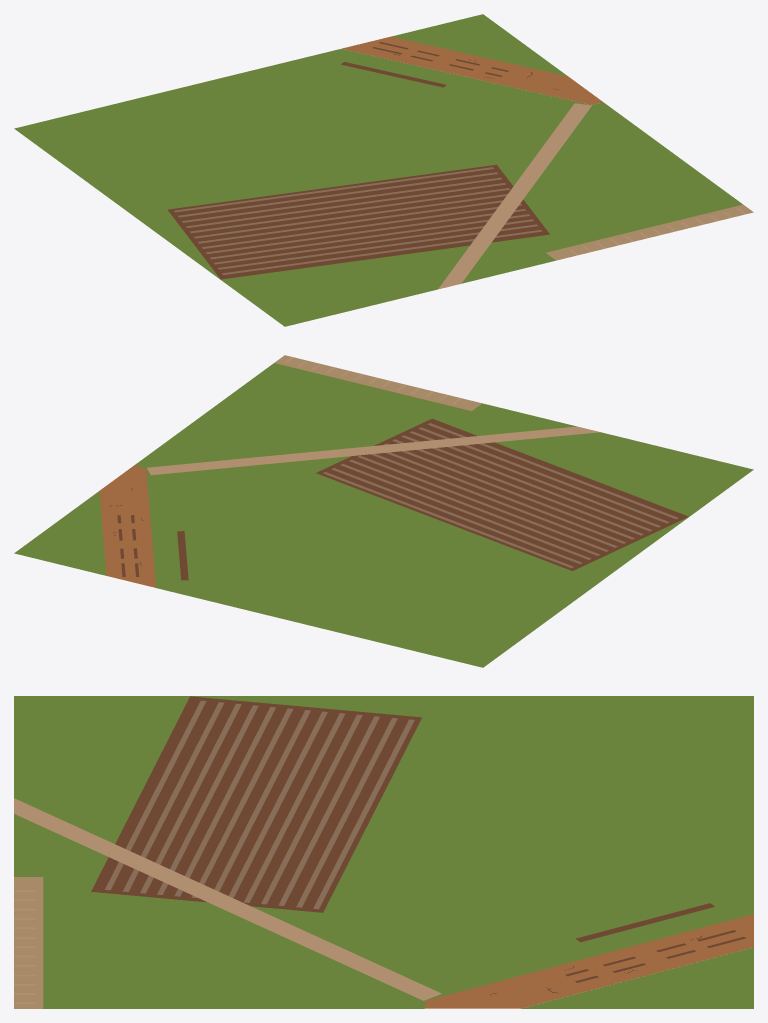
Rendered from crossing-2-6.glb.
3 views of the same model, one above another, from view 1: azimuth 30°, elevation 25°; view 2: azimuth 150°, elevation 25°; view 3: azimuth 270°, elevation 25° (orthographic). The views are drawn at different scales.
Parts seen in each view (by area): view 1: crossing-2-6; view 2: crossing-2-6; view 3: crossing-2-6.
Part boxes in pixels (left/top/right/bottom): crossing-2-6: left=14, top=14, right=753, bottom=326; crossing-2-6: left=14, top=355, right=753, bottom=667; crossing-2-6: left=14, top=696, right=753, bottom=1008.
Size of the model in its own units: 100 by 0.0135 by 100.
